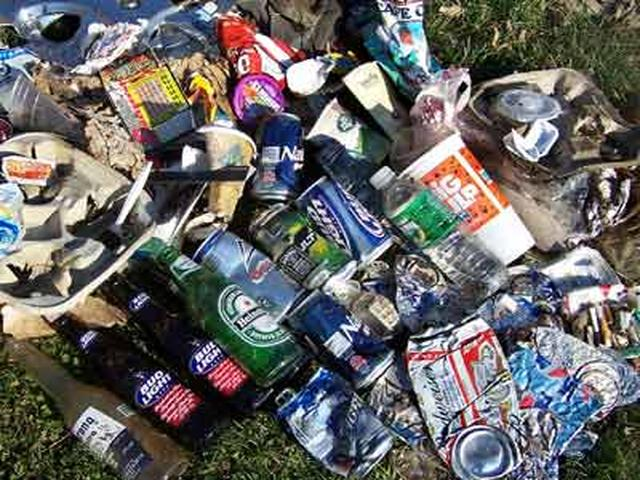garbage: (22, 74, 564, 414)
